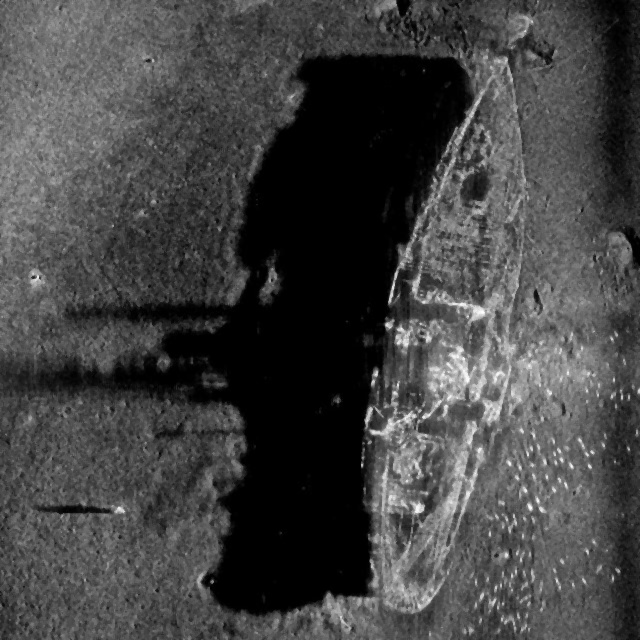Ship: (346, 12, 553, 624)
